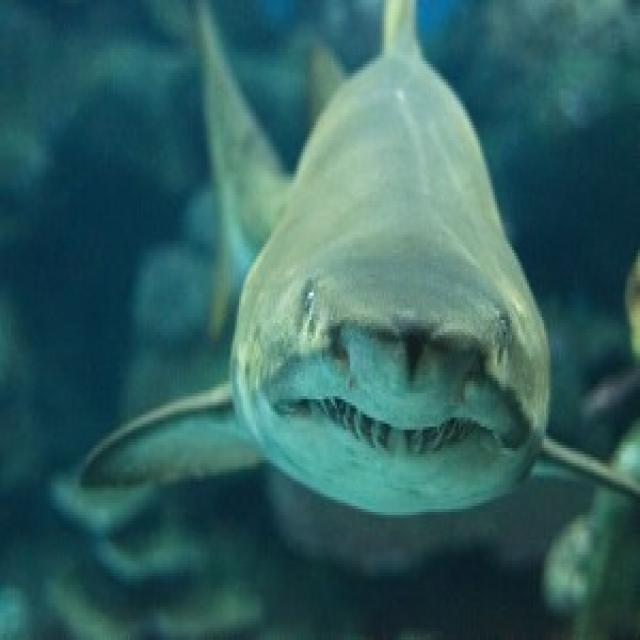Shark: (50, 2, 640, 560)
